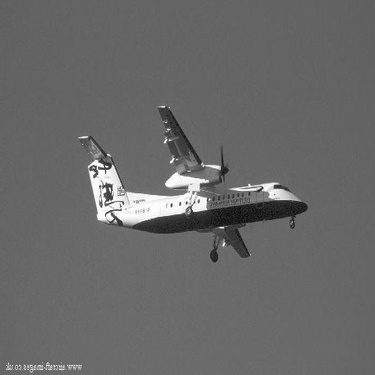airplane: (60, 94, 317, 267)
